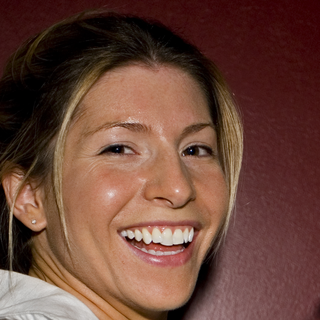eye: (91, 139, 142, 161), (176, 140, 217, 163)
